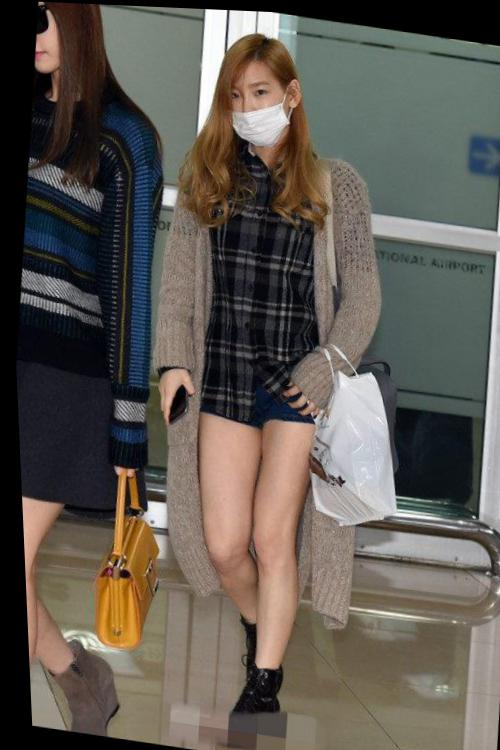WRONG: (222, 53, 289, 150)
